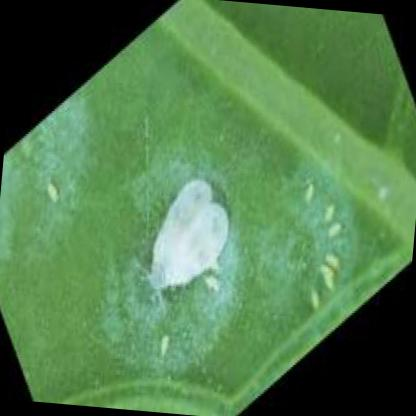whitefly: (147, 181, 231, 297)
